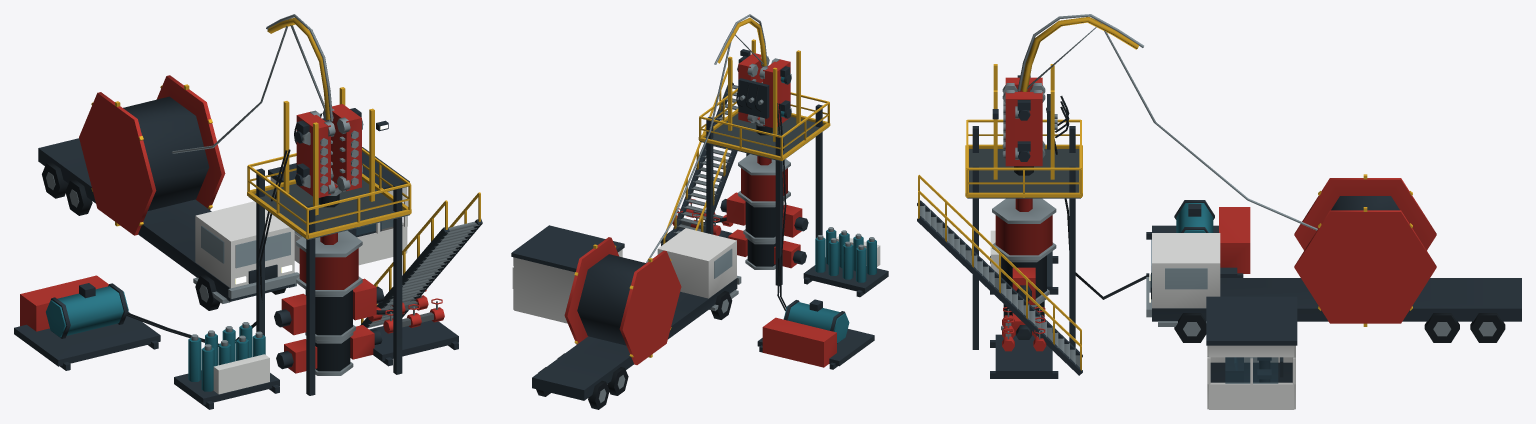
File: coiled_tubing_lodL.glb
3 views of the same model, side by side, from view 1: azimuth 30°, elevation 25°; view 2: azimuth 150°, elevation 25°; view 3: azimuth 270°, elevation 25° (orthographic). The views are drawn at different scales.
Parts seen in each view (by area): view 1: reel_surface_red, reel_surface_dark, reel_trailer_surface_white, reel_trailer_surface_dark, support_frame_surface_dark, power_pack_surface_dark, support_frame_surface_yellow, injector_head_surface_red, support_frame_surface_deck, power_pack_surface_blue, accumulator_surface_blue, choke_manifold_surface_dark (+26 smaller); view 2: reel_surface_red, reel_trailer_surface_dark, reel_trailer_surface_white, reel_surface_dark, control_cabin_surface_white, support_frame_surface_dark, power_pack_surface_red, control_cabin_surface_dark, accumulator_surface_blue, support_frame_surface_yellow, support_frame_surface_deck, injector_head_surface_red (+22 smaller); view 3: reel_surface_red, reel_trailer_surface_dark, control_cabin_surface_dark, reel_trailer_surface_white, control_cabin_surface_white, support_frame_surface_deck, injector_head_surface_red, support_frame_surface_yellow, support_frame_surface_dark, stairs_surface_dark, choke_manifold_surface_dark, power_pack_surface_red (+18 smaller).
Part boxes in pixels (x1=…): reel_surface_red: x1=79, y1=75, x2=225, y2=235; reel_surface_dark: x1=123, y1=96, x2=209, y2=210; reel_trailer_surface_white: x1=195, y1=201, x2=294, y2=288; reel_trailer_surface_dark: x1=38, y1=138, x2=295, y2=301; support_frame_surface_dark: x1=256, y1=168, x2=402, y2=395; power_pack_surface_dark: x1=14, y1=283, x2=160, y2=370; support_frame_surface_yellow: x1=247, y1=148, x2=411, y2=239; injector_head_surface_red: x1=296, y1=104, x2=361, y2=197; support_frame_surface_deck: x1=249, y1=179, x2=409, y2=239; power_pack_surface_blue: x1=46, y1=286, x2=128, y2=337; accumulator_surface_blue: x1=188, y1=325, x2=265, y2=391; choke_manifold_surface_dark: x1=369, y1=320, x2=458, y2=366; reel_surface_red: x1=564, y1=237, x2=681, y2=364; reel_trailer_surface_dark: x1=532, y1=278, x2=737, y2=400; reel_trailer_surface_white: x1=657, y1=228, x2=736, y2=298; reel_surface_dark: x1=577, y1=254, x2=645, y2=345; control_cabin_surface_white: x1=512, y1=249, x2=622, y2=323; support_frame_surface_dark: x1=706, y1=104, x2=822, y2=286; power_pack_surface_red: x1=762, y1=317, x2=836, y2=367; control_cabin_surface_dark: x1=511, y1=225, x2=624, y2=272; accumulator_surface_blue: x1=815, y1=229, x2=876, y2=282; support_frame_surface_yellow: x1=698, y1=88, x2=830, y2=160; support_frame_surface_deck: x1=700, y1=113, x2=828, y2=161; injector_head_surface_red: x1=738, y1=53, x2=790, y2=127; reel_surface_red: x1=1294, y1=178, x2=1436, y2=323; reel_trailer_surface_dark: x1=1150, y1=274, x2=1521, y2=321; control_cabin_surface_dark: x1=1206, y1=296, x2=1297, y2=382; reel_trailer_surface_white: x1=1152, y1=233, x2=1220, y2=308; control_cabin_surface_white: x1=1207, y1=345, x2=1295, y2=409; support_frame_surface_deck: x1=967, y1=149, x2=1080, y2=198; injector_head_surface_red: x1=1005, y1=77, x2=1042, y2=166; support_frame_surface_yellow: x1=965, y1=119, x2=1082, y2=197; support_frame_surface_dark: x1=972, y1=126, x2=1075, y2=349; stairs_surface_dark: x1=917, y1=200, x2=1082, y2=375; choke_manifold_surface_dark: x1=990, y1=334, x2=1058, y2=378; power_pack_surface_red: x1=1219, y1=207, x2=1250, y2=273.
Bounding box in the file's own units: 14.85 × 12.31 × 21.27.
